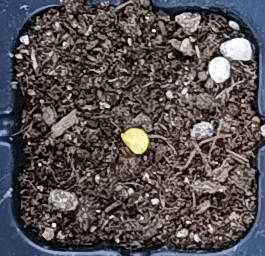chilli seed: (120, 128, 148, 155)
